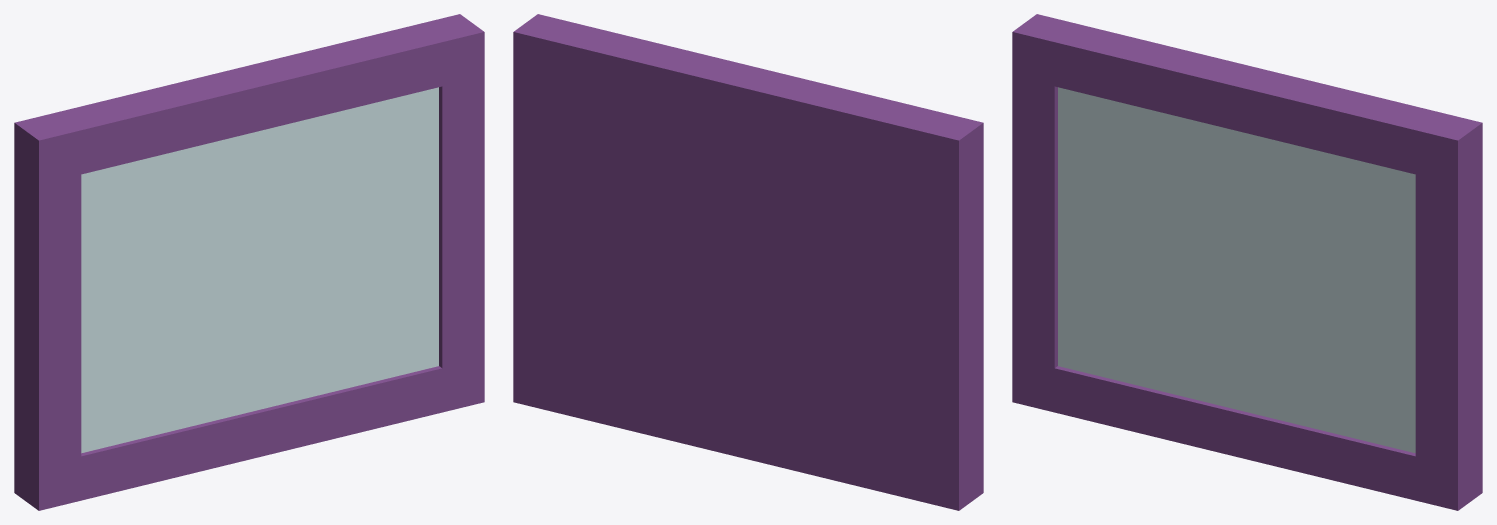
The model's file is Itr_Obj_Laptop_Screen_on_06.FBX.
The picture shows the model from 3 angles, left to right: view 1: azimuth 30°, elevation 25°; view 2: azimuth 150°, elevation 25°; view 3: azimuth 330°, elevation 25°; orthographic projection.
Visible parts, largest first — view 1: Itr_Obj_Laptop_Screen_on_06; view 2: Itr_Obj_Laptop_Screen_on_06; view 3: Itr_Obj_Laptop_Screen_on_06.
Part boxes in pixels (left/top/right/bottom): Itr_Obj_Laptop_Screen_on_06: left=14, top=14, right=484, bottom=510; Itr_Obj_Laptop_Screen_on_06: left=513, top=14, right=983, bottom=510; Itr_Obj_Laptop_Screen_on_06: left=1012, top=14, right=1482, bottom=510.
Bounding box in the file's own units: 29.1 × 23.12 × 2.77.
